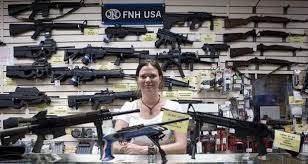rifle: (163, 106, 303, 159), (3, 107, 141, 153), (105, 117, 190, 161), (9, 18, 99, 39), (6, 1, 99, 16), (64, 45, 139, 63), (224, 28, 308, 43), (67, 88, 137, 106), (1, 88, 56, 108), (230, 44, 308, 58), (161, 12, 224, 29), (226, 15, 308, 28), (12, 41, 63, 60), (103, 26, 152, 43), (6, 63, 51, 80)
